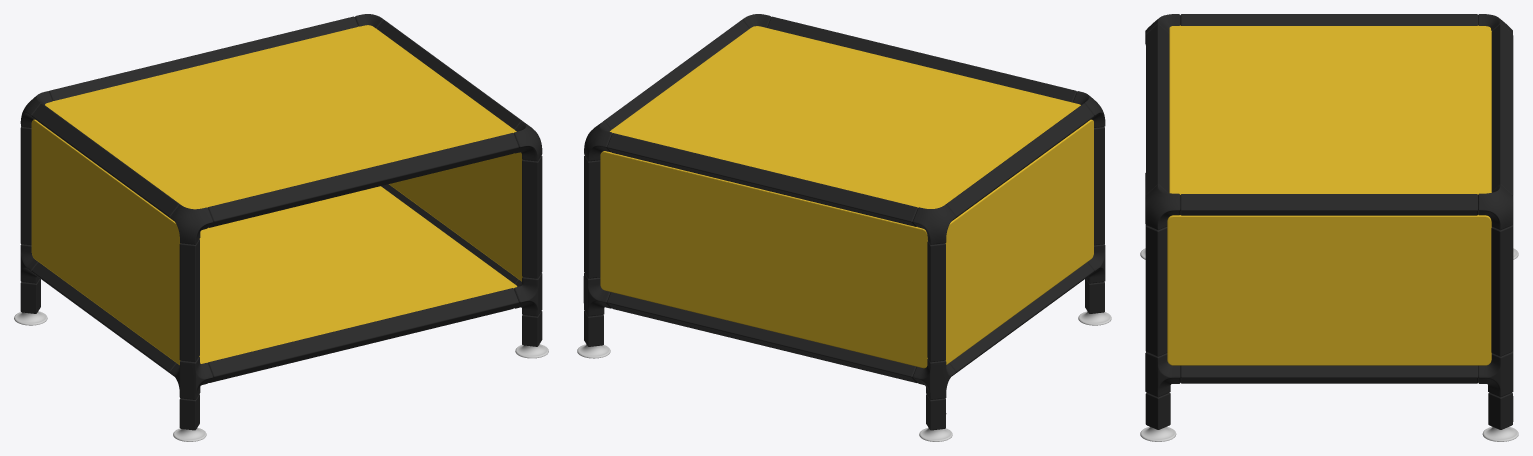
The picture shows the model from 3 angles, left to right: view 1: azimuth 30°, elevation 25°; view 2: azimuth 150°, elevation 25°; view 3: azimuth 270°, elevation 25°; orthographic projection. The views are drawn at different scales.
Visible parts, largest first — view 1: 420x329x154; view 2: 420x329x154; view 3: 420x329x154.
Part boxes in pixels (x1,y1,x2,y2): 420x329x154: (14, 14, 548, 441); 420x329x154: (577, 14, 1111, 441); 420x329x154: (1140, 14, 1518, 441).
Bounding box in the file's own units: 0.5099 × 0.2933 × 0.4182.
